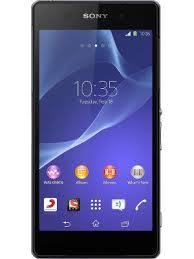sony: (31, 1, 162, 258)
